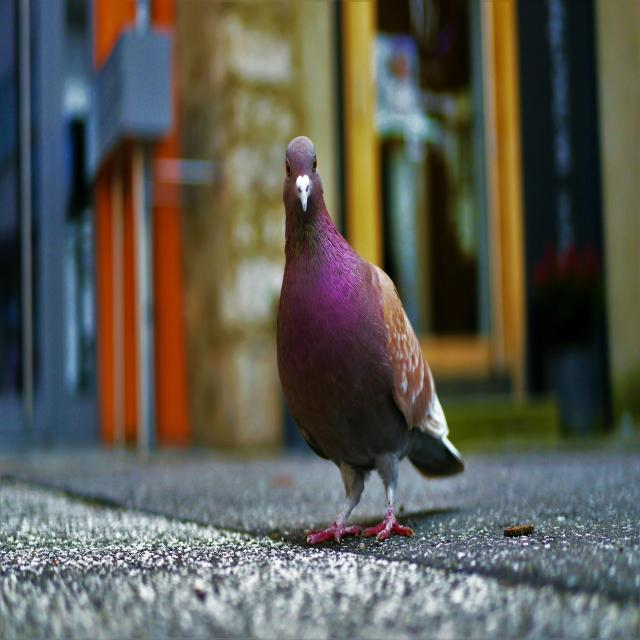Pigeon: (276, 133, 465, 540)
